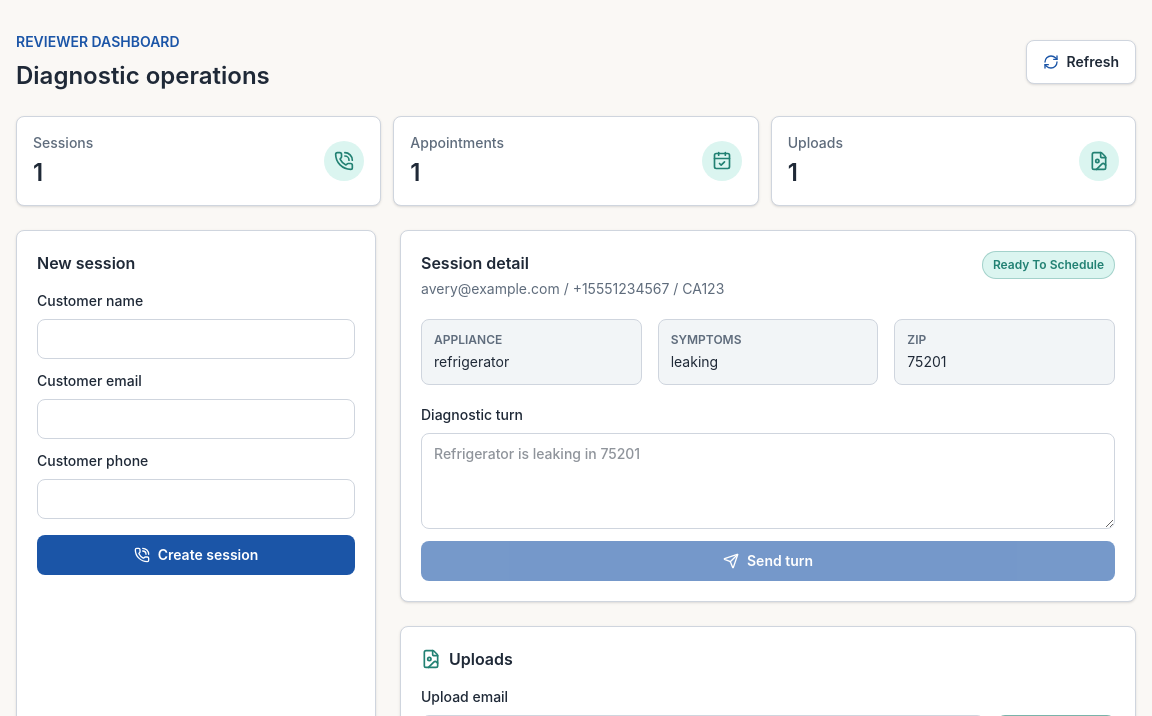
Scenario: Dashboard › can send a diagnostic turn and refresh data
The width and height of the screenshot is (1152, 716).
Type "Refrigerator leaking in 75201" into the text box labelled "Diagnostic turn".
click(768, 481); type("Refrigerator leaking in 75201")  # box [421, 433, 1115, 529]
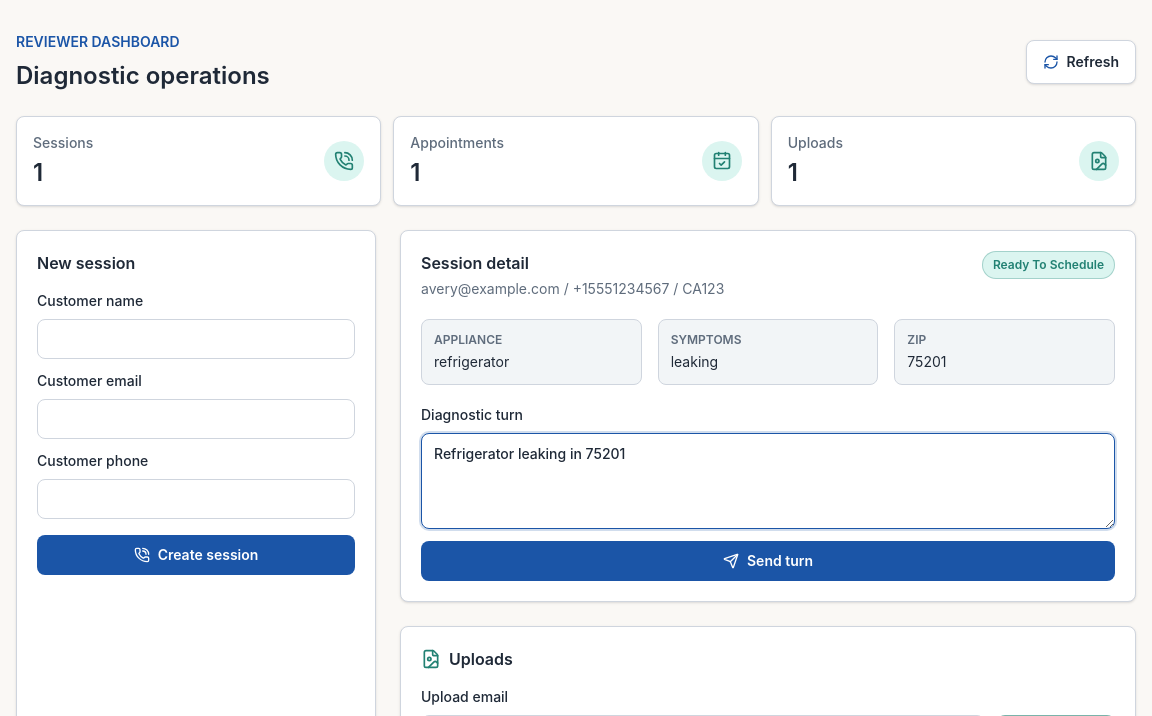
Click the button "Send turn".
click(768, 561)  # box [421, 541, 1115, 581]
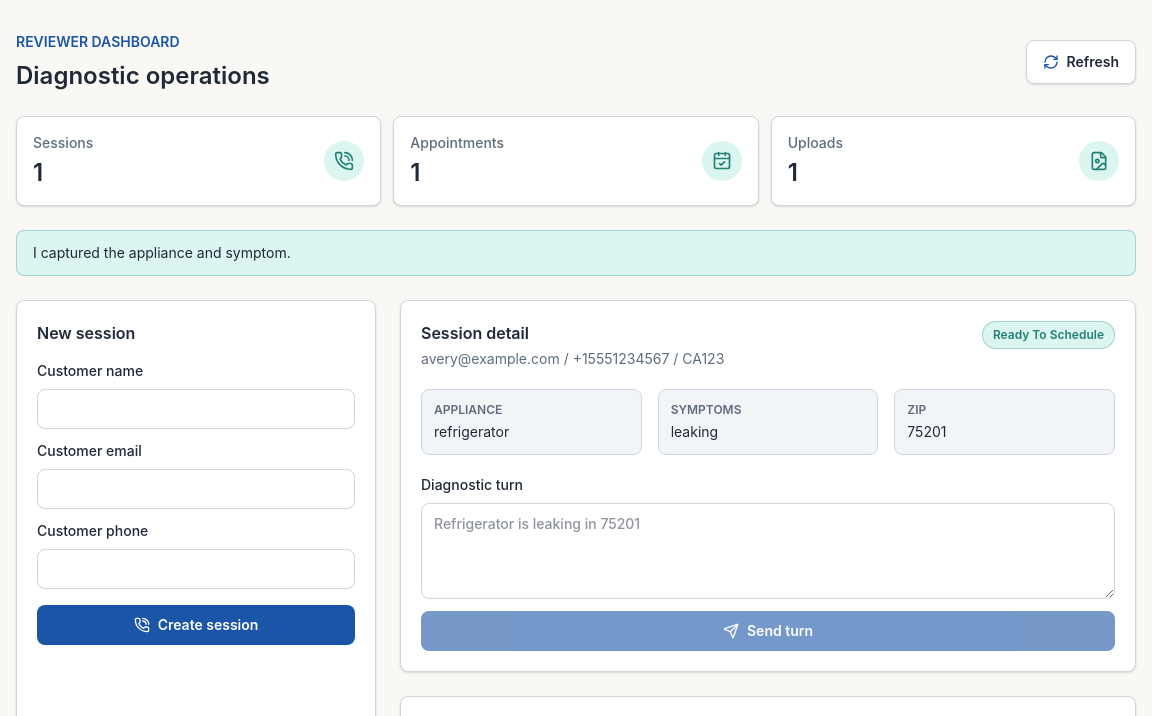
Check: the text "I captured the appliance and symptom." is shown, box [16, 230, 1136, 276]
